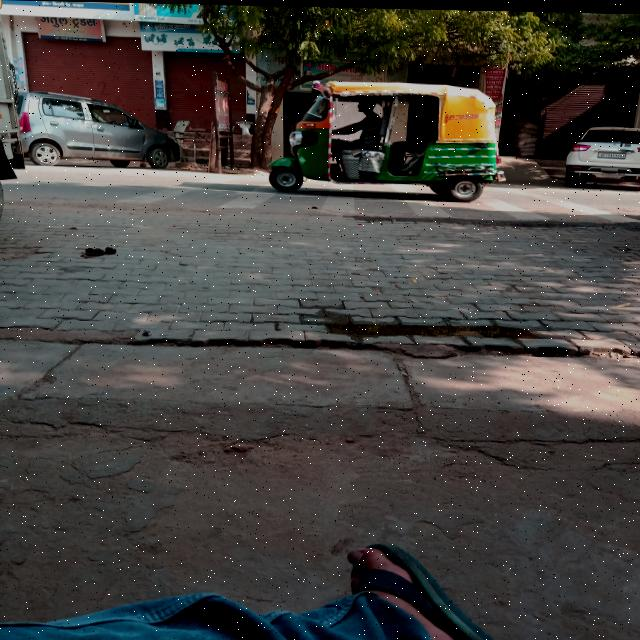plate: (598, 149, 627, 156)
